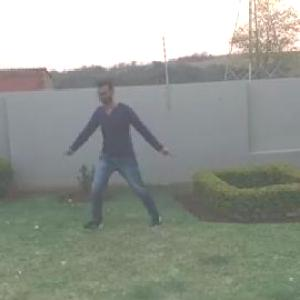land: (61, 68, 173, 232)
